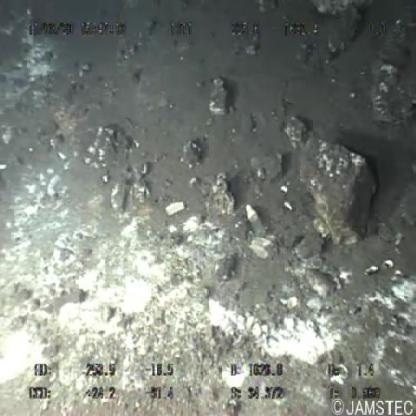Rác: (244, 201, 266, 239)
